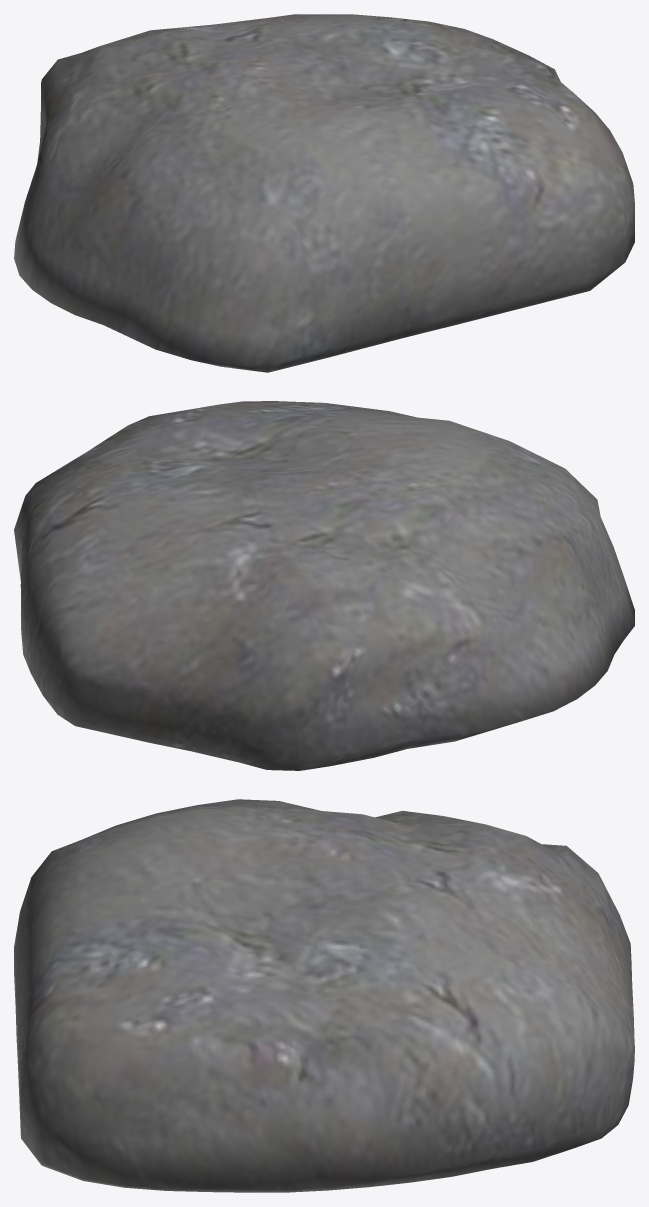
Rendered from SM_Sun_Dae_Stone_E.fbx.
3 renders of one model, top to bottom at view 1: azimuth 30°, elevation 25°; view 2: azimuth 150°, elevation 25°; view 3: azimuth 270°, elevation 25°, orthographic. The views are drawn at different scales.
Visible parts, largest first — view 1: SM_Sun_Dae_Stone_E; view 2: SM_Sun_Dae_Stone_E; view 3: SM_Sun_Dae_Stone_E.
Part boxes in pixels (x1=…): SM_Sun_Dae_Stone_E: x1=14, y1=14, x2=634, y2=372; SM_Sun_Dae_Stone_E: x1=14, y1=401, x2=634, y2=770; SM_Sun_Dae_Stone_E: x1=14, y1=799, x2=634, y2=1192.
Size of the model in its own units: 80.35 by 25.67 by 70.7.
